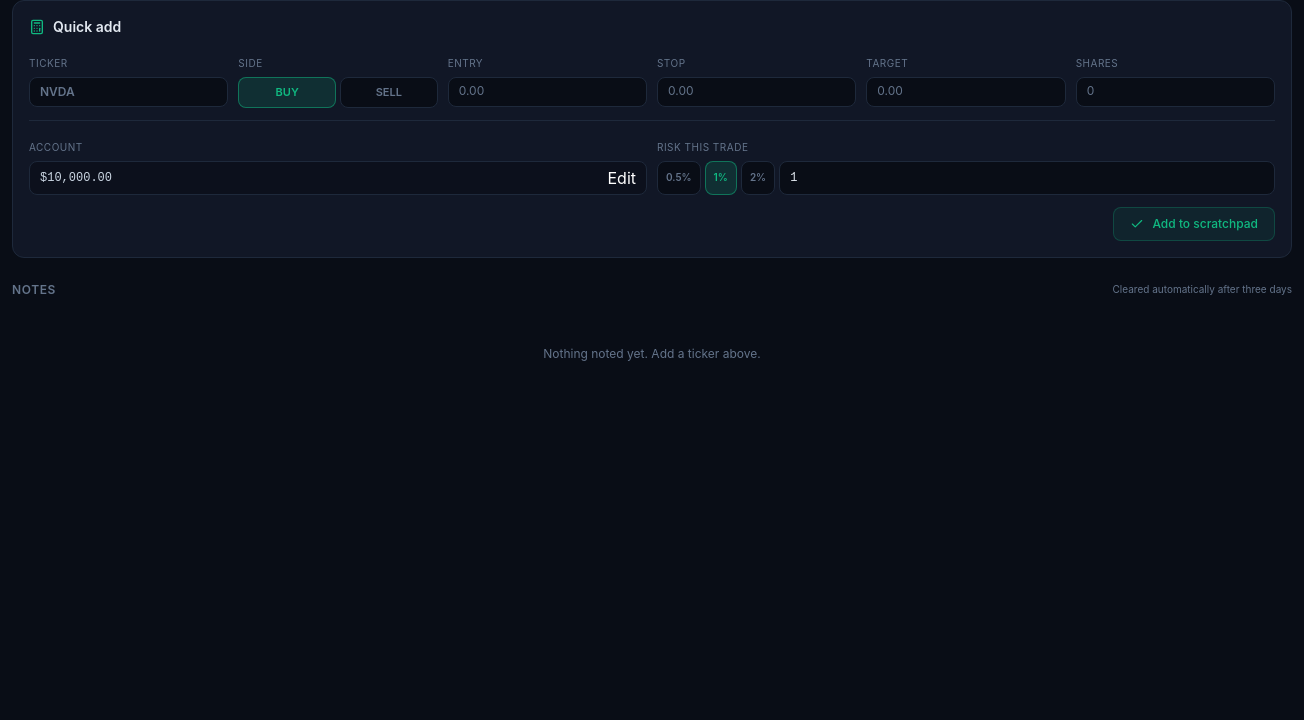
Test: the risk % control › re-prices the suggestion when a preset is clicked
Expected: the number field named "Risk percent" holds "1", left=779, top=160, right=1275, bottom=194
Type "100" into the number field labelled "Entry" at (547, 92), box left=448, top=77, right=647, bottom=107
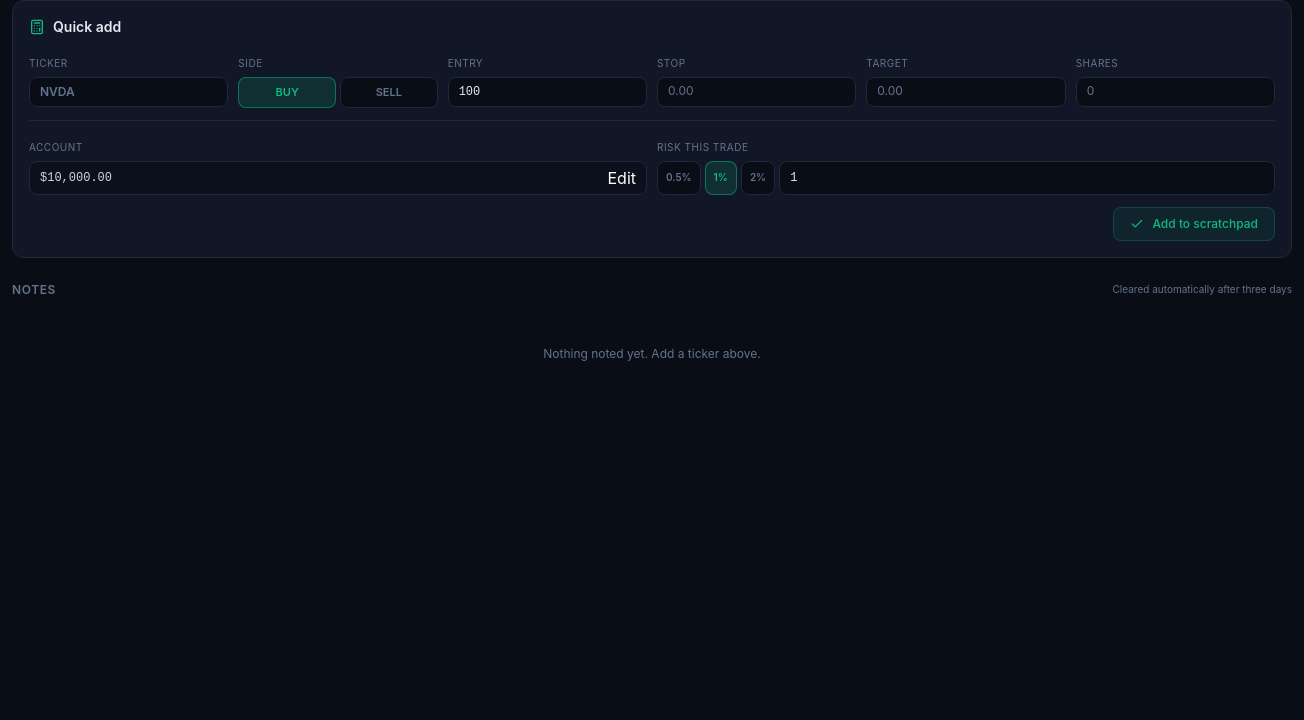
Type "95" into the number field labelled "Stop" at (757, 92), box left=657, top=77, right=856, bottom=107
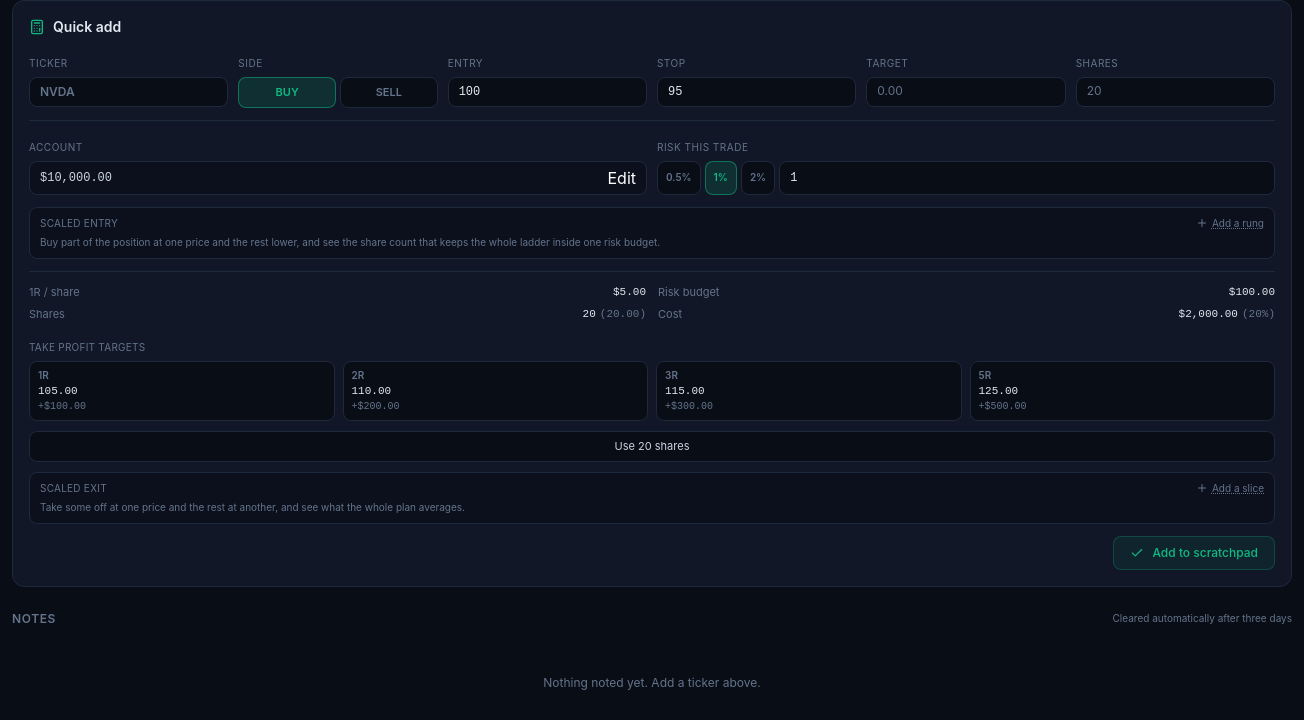
Expected: the button "Use 20 shares" is shown, left=29, top=431, right=1275, bottom=462
Click the button "2%" at (758, 178), box left=741, top=160, right=775, bottom=194
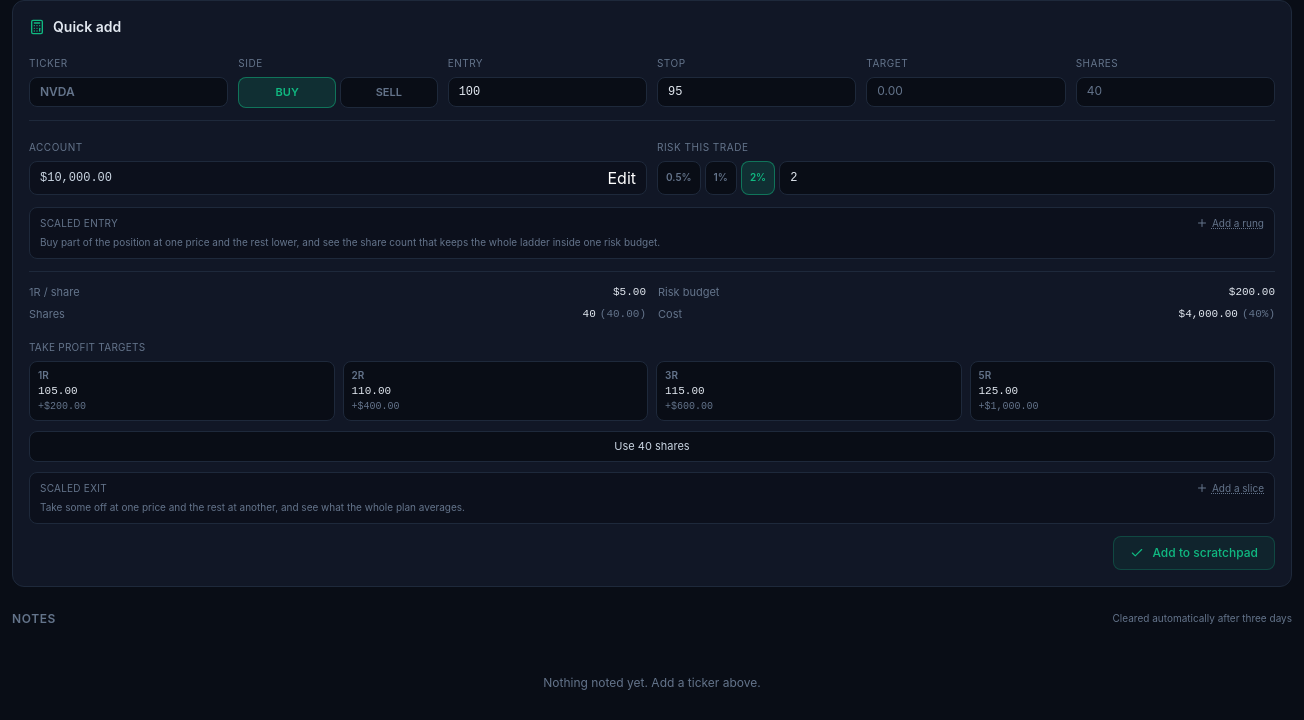
Expected: the button "Use 40 shares" is shown, left=29, top=431, right=1275, bottom=462
